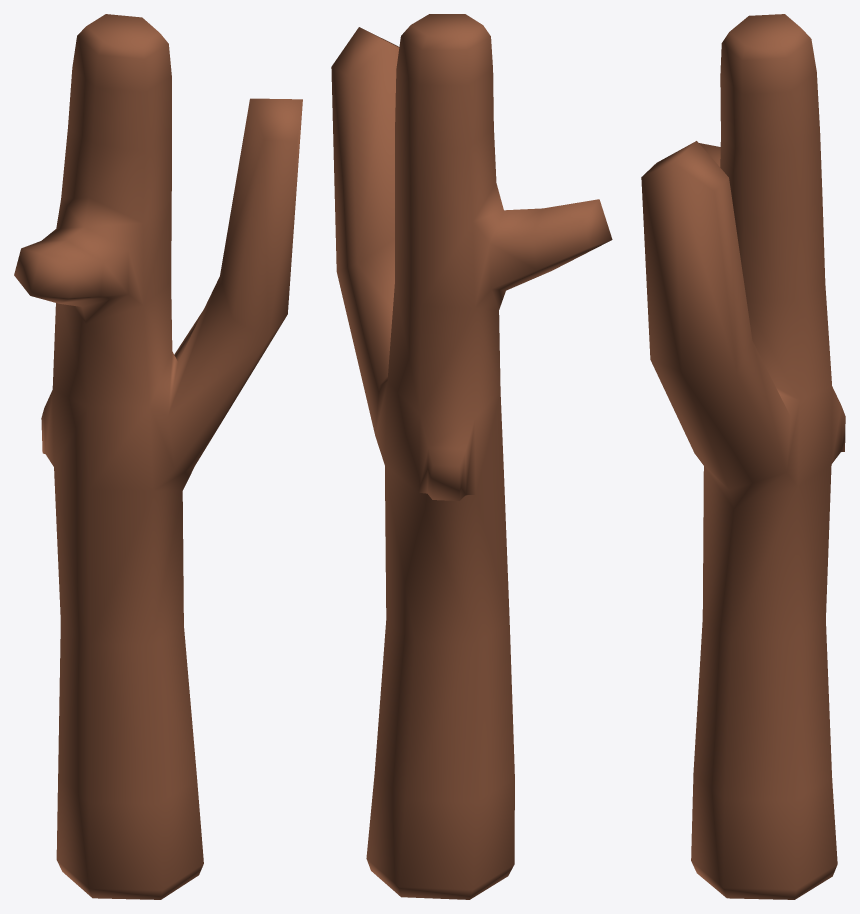
File: Tree_Btm_D_03_LOD2.gltf
3 renders of one model, left to right at view 1: azimuth 30°, elevation 25°; view 2: azimuth 150°, elevation 25°; view 3: azimuth 270°, elevation 25°, orthographic.
Visible parts, largest first — view 1: Tree_Btm_D_03_LOD2_Cylinder.667; view 2: Tree_Btm_D_03_LOD2_Cylinder.667; view 3: Tree_Btm_D_03_LOD2_Cylinder.667.
Boxes of the visible parts, left/top/right/bottom form: Tree_Btm_D_03_LOD2_Cylinder.667: left=14, top=14, right=302, bottom=899; Tree_Btm_D_03_LOD2_Cylinder.667: left=331, top=14, right=612, bottom=899; Tree_Btm_D_03_LOD2_Cylinder.667: left=641, top=14, right=845, bottom=899.
Size of the model in its own units: 3.11 by 9.43 by 2.05.
Materials: 1 (1 with a texture image).
